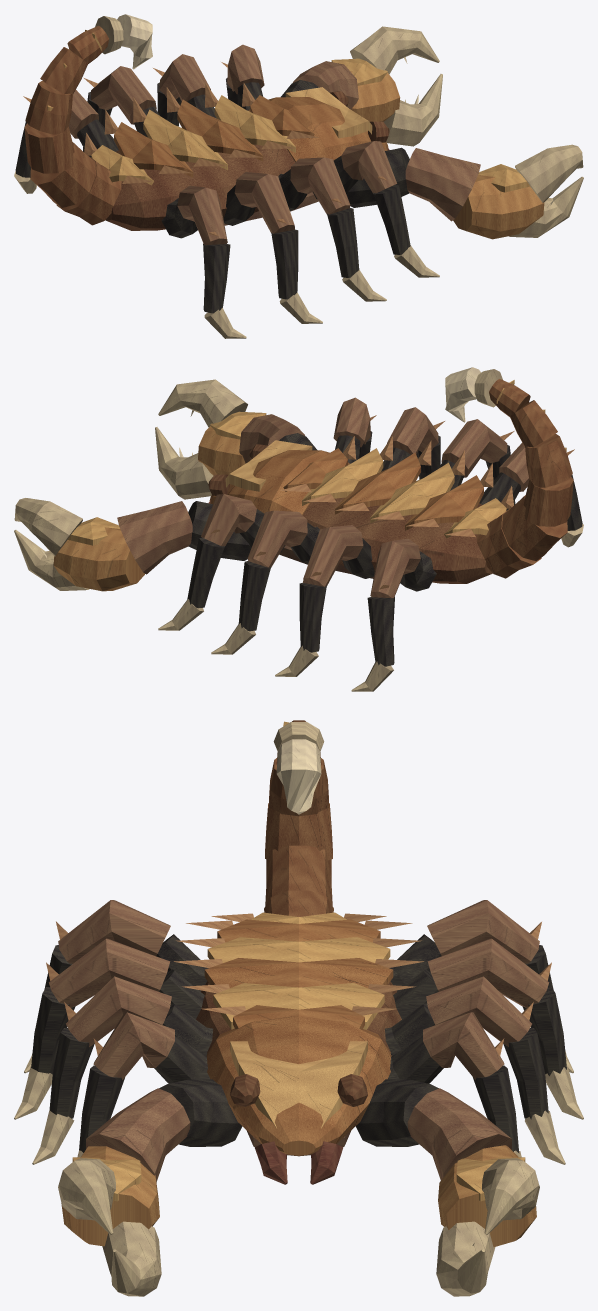
File: escarvao_cobre_blockout_v01.glb
The picture shows the model from 3 angles, top to bottom: view 1: azimuth 30°, elevation 25°; view 2: azimuth 150°, elevation 25°; view 3: azimuth 270°, elevation 25°; orthographic projection. The views are drawn at different scales.
Parts seen in each view (by area): view 1: escarvao_v01_cobre; view 2: escarvao_v01_cobre; view 3: escarvao_v01_cobre.
Boxes of the visible parts, x1,y1,x2,y2 form: escarvao_v01_cobre: (14, 14, 583, 338); escarvao_v01_cobre: (14, 367, 583, 691); escarvao_v01_cobre: (14, 720, 583, 1296).
Size of the model in its own units: 5.21 by 2.68 by 4.05.
1 material, 1 textured.
